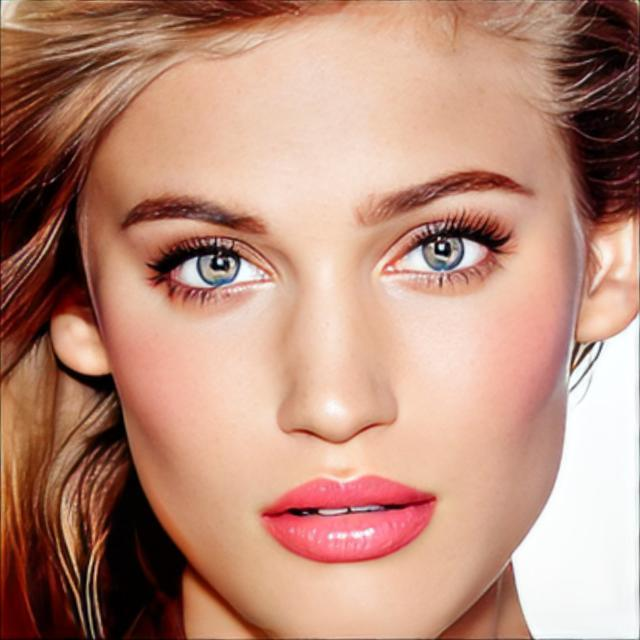neutral: (81, 1, 590, 640)
